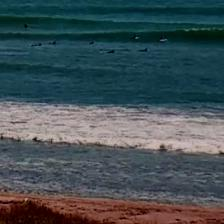surfer: (48, 40, 57, 46), (106, 48, 115, 54), (130, 35, 139, 40), (32, 43, 43, 47), (139, 48, 150, 52), (88, 41, 96, 46), (23, 23, 29, 29), (160, 36, 167, 41)
